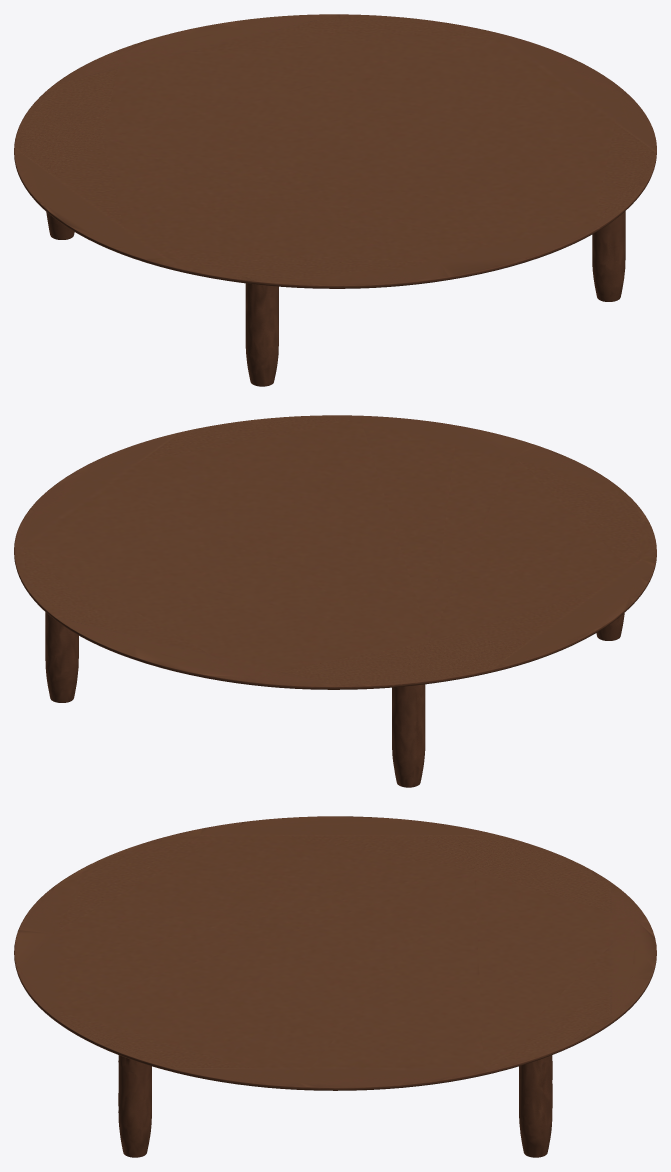
The model's file is WalnutRoundTable.fbx.
The picture shows the model from 3 angles, top to bottom: view 1: azimuth 30°, elevation 25°; view 2: azimuth 150°, elevation 25°; view 3: azimuth 270°, elevation 25°; orthographic projection.
Parts seen in each view (by area): view 1: WalnutRoundTable; view 2: WalnutRoundTable; view 3: WalnutRoundTable.
Part boxes in pixels (bbox=[...]): WalnutRoundTable: bbox=[14, 14, 656, 386]; WalnutRoundTable: bbox=[14, 415, 656, 787]; WalnutRoundTable: bbox=[14, 816, 656, 1157].
Size of the model in its own units: 5 by 1 by 5.
1 material, 1 textured.
